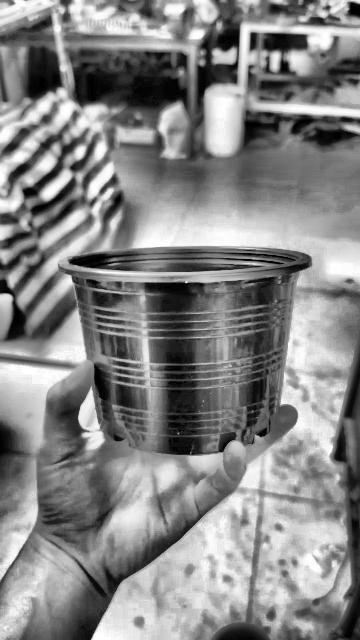pot: (59, 247, 310, 455)
